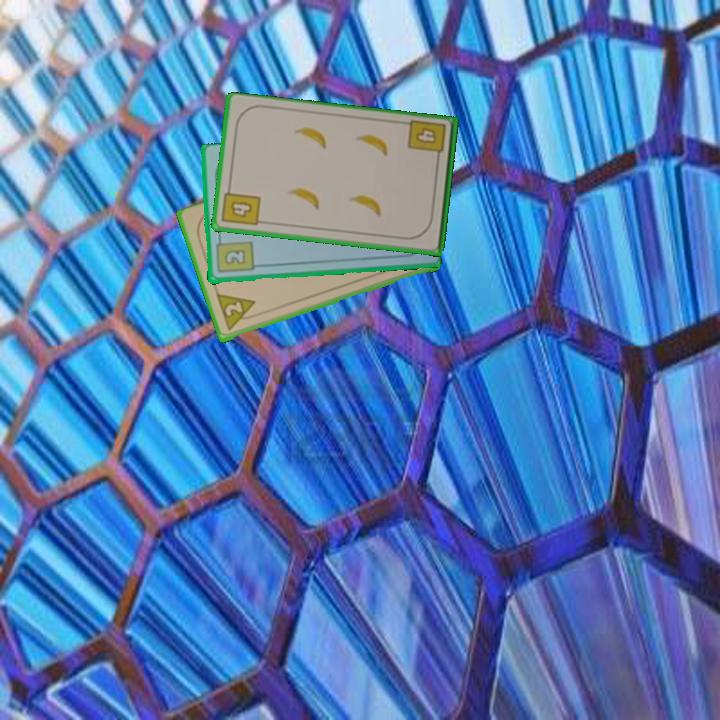2b: (212, 234, 256, 276)
2p: (213, 291, 261, 334)
4b: (405, 117, 449, 165), (218, 183, 263, 229)
